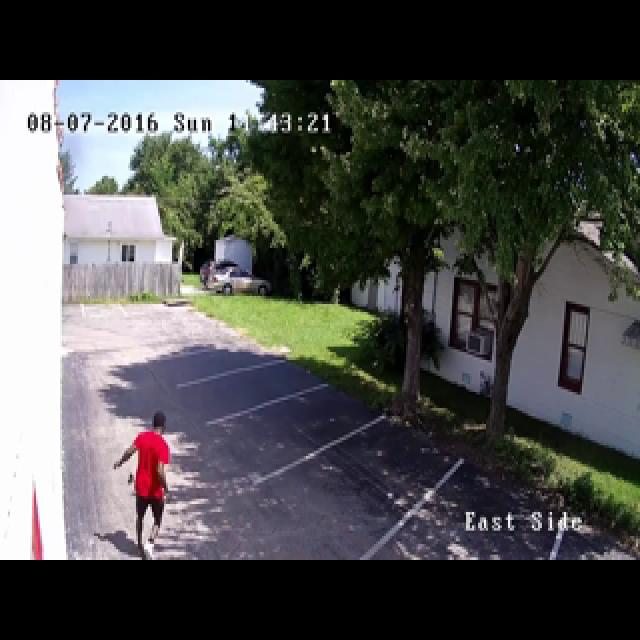arson: (61, 151, 291, 548), (38, 160, 218, 562)
